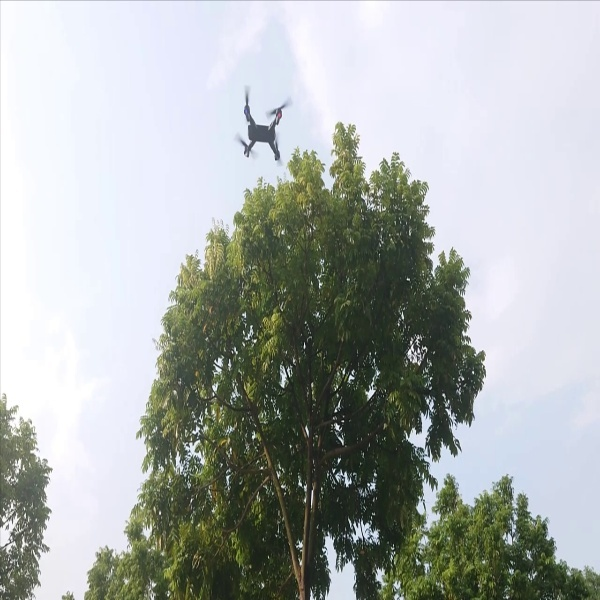drone: (233, 82, 289, 167)
